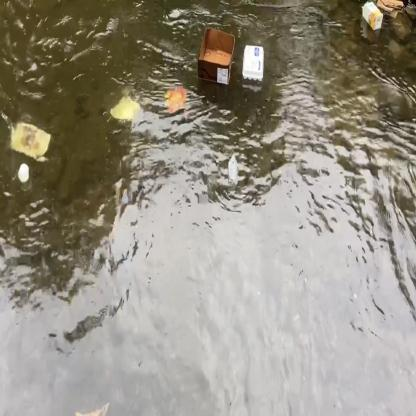trash: (194, 24, 238, 92), (8, 112, 56, 166), (105, 91, 145, 130), (240, 40, 265, 83), (356, 0, 384, 35), (166, 84, 190, 118), (375, 0, 409, 21), (228, 150, 239, 193), (14, 159, 32, 184)
